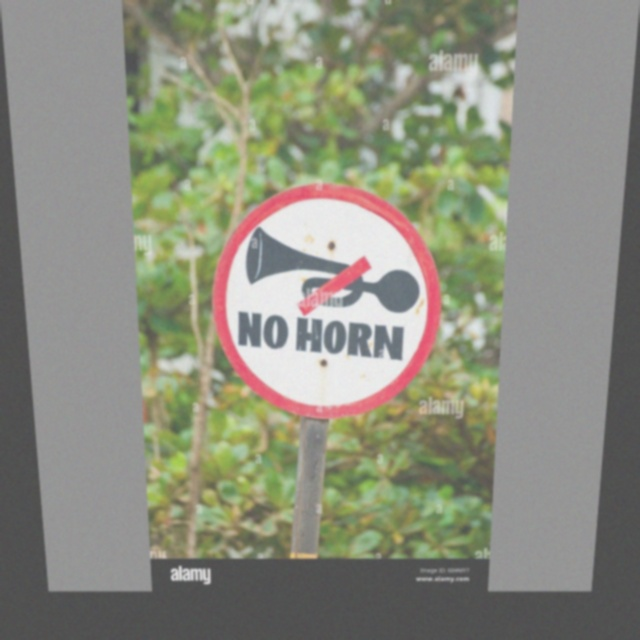Horn_Prohibited: (215, 179, 443, 421)
